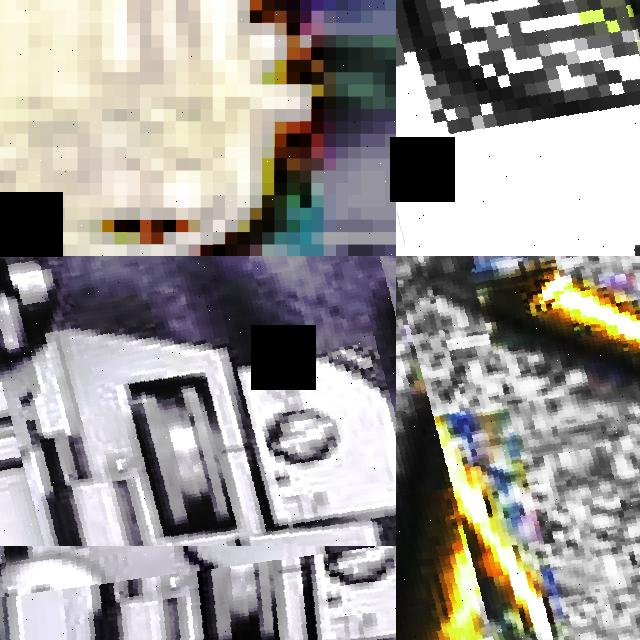arms: (0, 256, 396, 640), (0, 256, 396, 546), (396, 256, 640, 640), (396, 0, 640, 256), (396, 0, 640, 245), (396, 256, 590, 535)
